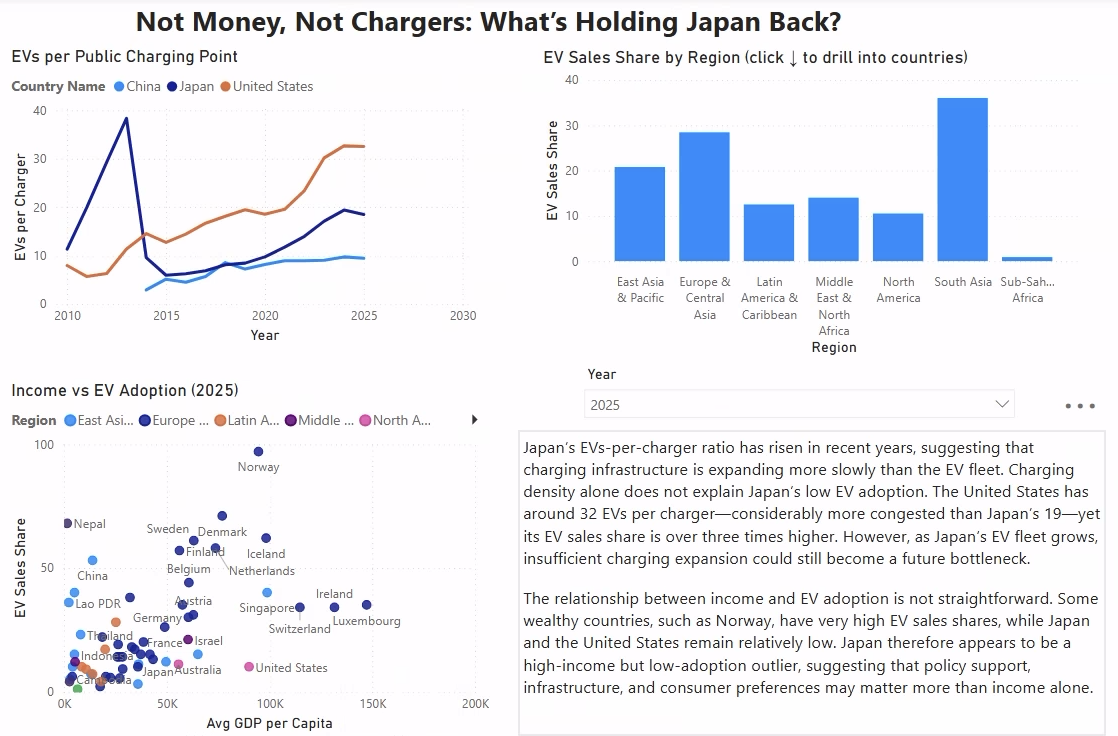

This screenshot's page, from the dashboard's own definition file:
{"tool":"powerbi","page":{"name":"Drivers","canvas":[1280,720],"ordinal":2},"visuals":[{"type":"lineChart","title":"EVs per Public Charging Point","fields":{"Category":["Dim_Year.Year"],"Y":["Fact_EV.EVs per Charger"],"Series":["Dim_Country.Country Name"]},"box":[62.3,47.8,462.3,294.2],"z":0},{"type":"scatterChart","title":"Income vs EV Adoption (2025)","fields":{"X":["Fact_GDP.Avg GDP per Capita"],"Y":["Fact_EV.EV Sales Share"],"Category":["Dim_Country.Country Name"],"Series":["Dim_Country.Region"]},"box":[62.3,373.9,475.4,346.4],"z":1000},{"type":"clusteredColumnChart","title":"EV Sales Share by Region (click ↓ to drill into countries)","fields":{"Category":["Dim_Country.Geography.Region","Dim_Country.Geography.Country Name"],"Y":["Fact_EV.EV Sales Share"]},"box":[579.7,47.8,531.9,305.8],"z":2000},{"type":"slicer","fields":{"Values":["Dim_Year.Year"]},"box":[614.5,353.6,439.1,134.8],"z":3000},{"type":"textbox","box":[560.9,421.7,572.5,298.6],"z":4000},{"type":"textbox","box":[182.6,0,736.2,49.3],"z":5000}]}

Visuals, with their boxes on the page's 1280x720 design canvas (x1, y1, x2, y2). These are canvas units, not pixel positions in the 1118x736 screenshot, which may show the page scaled, cropped or inside an application window:
"EVs per Public Charging Point" lineChart: locate(62, 48, 525, 342)
"Income vs EV Adoption (2025)" scatterChart: locate(62, 374, 538, 720)
"EV Sales Share by Region (click ↓ to drill into countries)" clusteredColumnChart: locate(580, 48, 1112, 354)
slicer - Dim_Year.Year: locate(614, 354, 1054, 488)
textbox: locate(561, 422, 1133, 720)
textbox: locate(183, 0, 919, 49)
